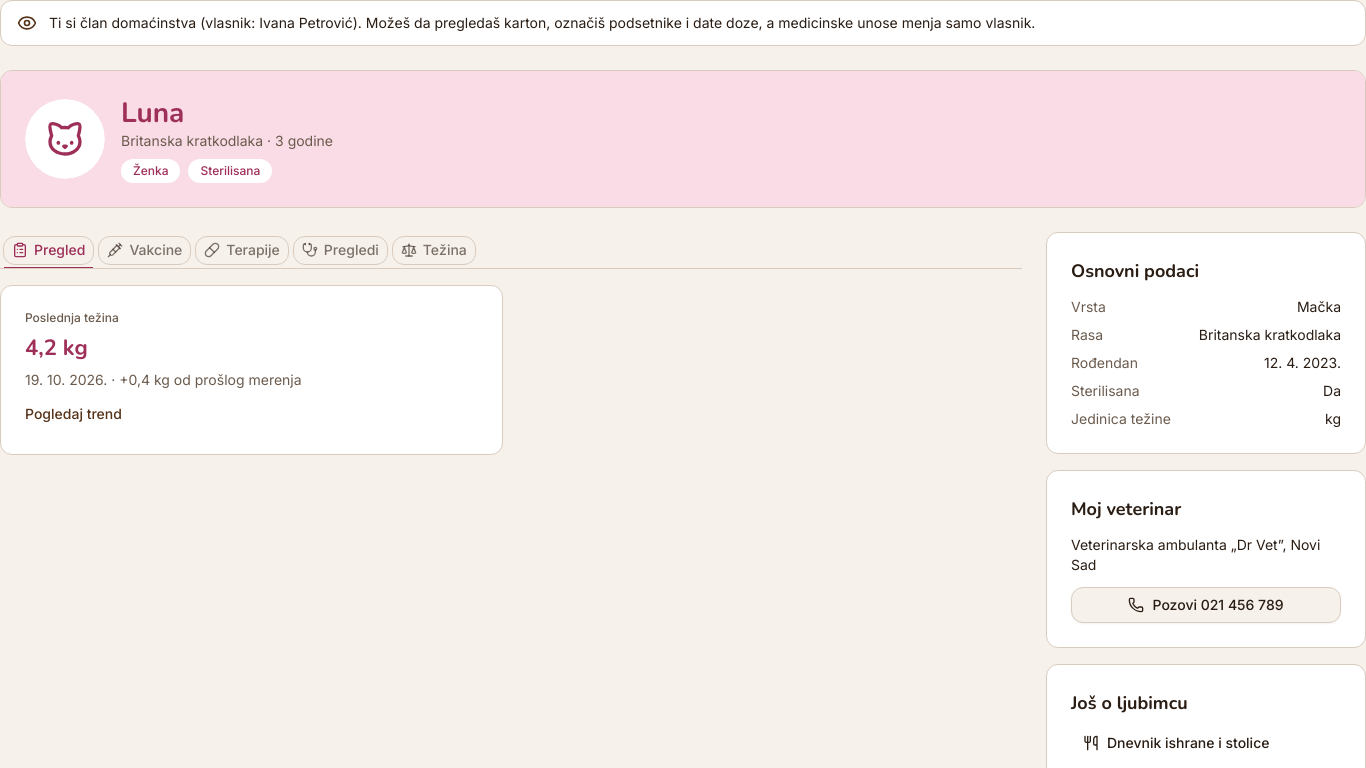
household member (read_only_reason household_member) › FR-28: offers Dodaj merenje (can_log) and row actions only on the member's own entry
Step 1. Click the tab "Težina" → (434, 250), box [392,236,476,264]
(page scrolled)
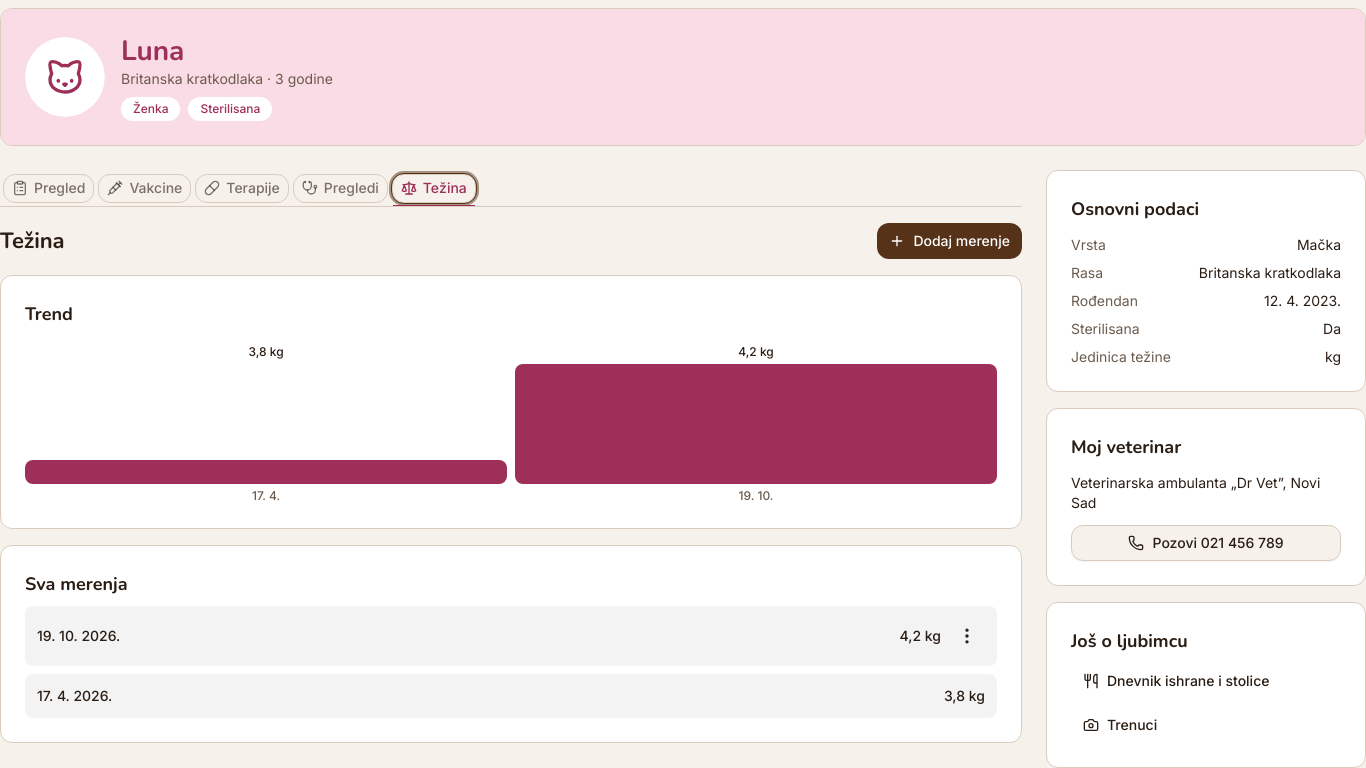
Expected: the button "Dodaj merenje" is shown, [877,223,1022,259]
Expected: the list item "19. 10. 2026. 4,2 kg" is shown, [25,606,997,666]
Expected: the button named "Još opcija: 19. 10. 2026." is shown, [949,618,985,654]
